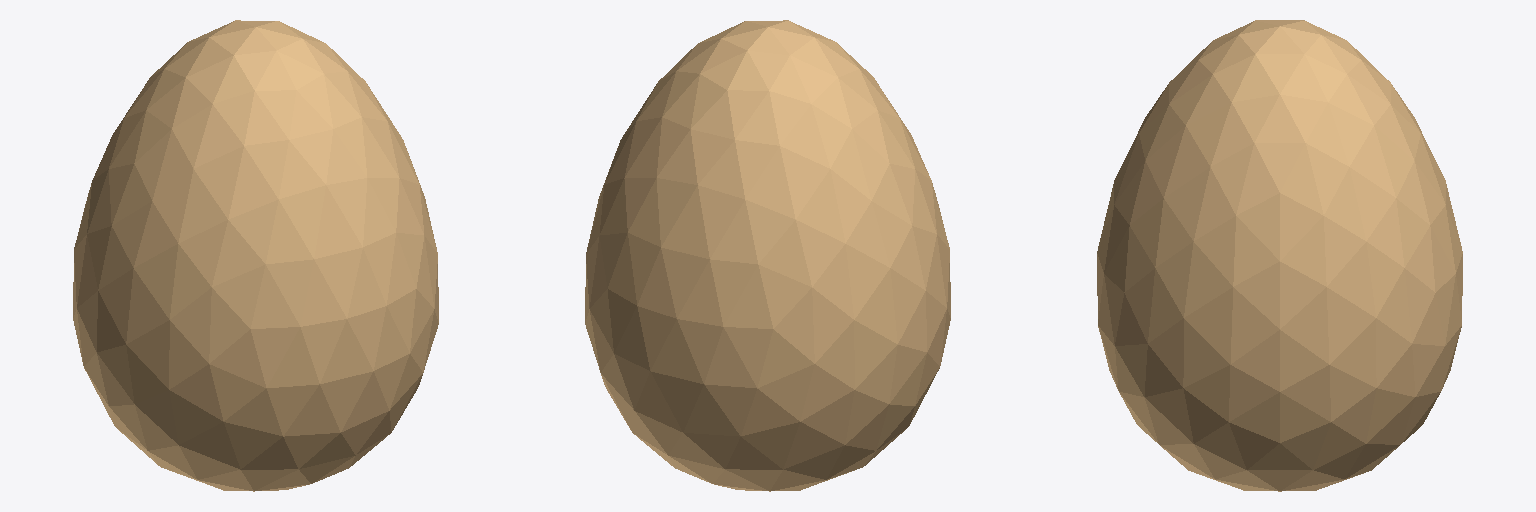
The robot description file, URDF, robot "egg_shell":
<?xml version='1.0' encoding='utf-8'?>
<robot name="egg_shell"><link name="egg"><inertial><origin xyz="3.6072693625716243e-19 -2.0341872609515791e-18 -0.0018766450749570069" rpy="0 0 0" /><mass value="0.0072311310422041794" /><inertia ixx="3.0767128684780762e-06" ixy="9.1952095167293267e-24" ixz="3.0687226110281275e-23" iyy="3.0767126438247601e-06" iyz="1.0813527759264542e-23" izz="2.3523141083473291e-06" /></inertial><visual><geometry><mesh filename="egg_outer.obj" /></geometry><material name="shell"><color rgba="0.90 0.76 0.57 1" /></material></visual><collision><geometry><mesh filename="egg_outer.obj" /></geometry></collision></link></robot>

--- Facts derived from the render (not from the file) ---
Views: 3 orthographic renders of the robot side by side, from view 1: azimuth 30°, elevation 25°; view 2: azimuth 150°, elevation 25°; view 3: azimuth 270°, elevation 25°.
Robot: egg_shell — 1 links, 0 joints (none); root link egg; default pose: all joints at 0.
Visible links, largest first — view 1: egg; view 2: egg; view 3: egg.
Boxes of the visible links, bbox=[...] form: egg: bbox=[73, 20, 438, 491]; egg: bbox=[585, 20, 950, 491]; egg: bbox=[1097, 20, 1462, 491].
Bounding box of the posed robot: 0.0444 × 0.044 × 0.06 m (x, y, z).
Meshes: 1 distinct files referenced, 1 mesh visuals loaded (1 OBJ).
